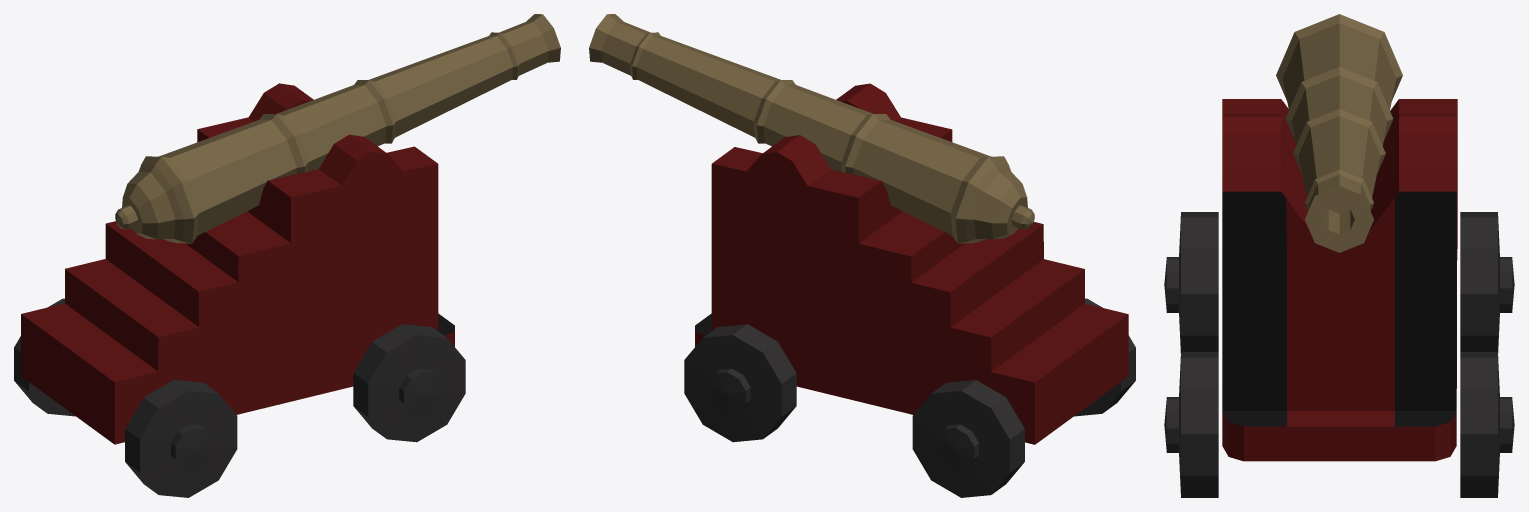
File: CanhaoMenor.fbx
3 views of the same model, side by side, from view 1: azimuth 30°, elevation 25°; view 2: azimuth 150°, elevation 25°; view 3: azimuth 270°, elevation 25° (orthographic). The views are drawn at different scales.
Visible parts, largest first — view 1: Canon; view 2: Canon; view 3: Canon.
Boxes of the visible parts, <box> form: Canon: <box>14,14,560,497</box>; Canon: <box>589,14,1135,497</box>; Canon: <box>1164,14,1514,497</box>.
Size of the model in its own units: 140 by 93.02 by 69.93.
Materials: 1 (1 with a texture image).
